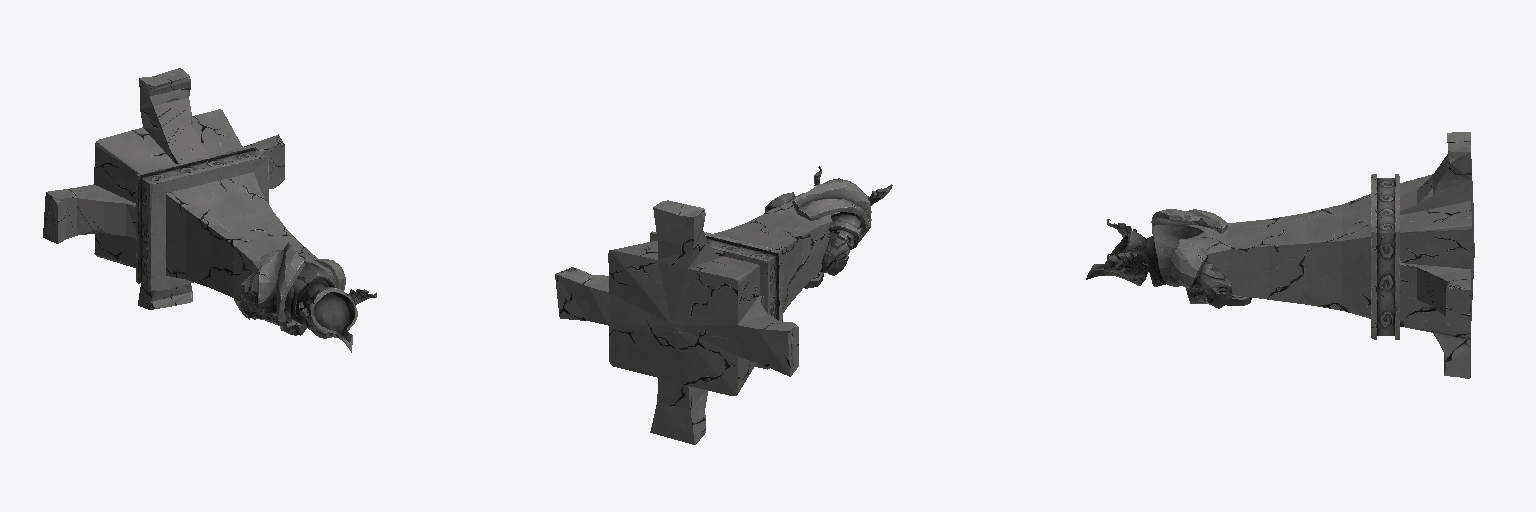
3 renders of one model, left to right at view 1: azimuth 30°, elevation 25°; view 2: azimuth 150°, elevation 25°; view 3: azimuth 270°, elevation 25°, orthographic.
Parts seen in each view (by area): view 1: Object.2, Object.1, Object.8, Object.4, Object.7, Object.3, Object.6, Object.5; view 2: Object.2, Object.1, Object.8, Object.4; view 3: Object.1, Object.2, Object.8, Object.4, Object.5.
Boxes of the visible parts, <box> form: Object.2: <box>43,76,278,304</box>; Object.1: <box>166,172,334,297</box>; Object.8: <box>234,242,376,352</box>; Object.4: <box>126,145,268,291</box>; Object.7: <box>140,68,190,105</box>; Object.3: <box>138,284,192,309</box>; Object.6: <box>43,195,66,243</box>; Object.5: <box>273,135,284,188</box>; Object.2: <box>555,207,793,444</box>; Object.1: <box>714,193,832,312</box>; Object.8: <box>764,166,892,288</box>; Object.4: <box>650,231,782,369</box>; Object.1: <box>1176,194,1370,318</box>; Object.2: <box>1400,135,1474,378</box>; Object.8: <box>1086,209,1251,308</box>; Object.4: <box>1371,174,1416,339</box>; Object.5: <box>1446,283,1470,330</box>.
Size of the model in its own units: 3048 by 2813 by 4362.
Materials: 2 (2 with a texture image).